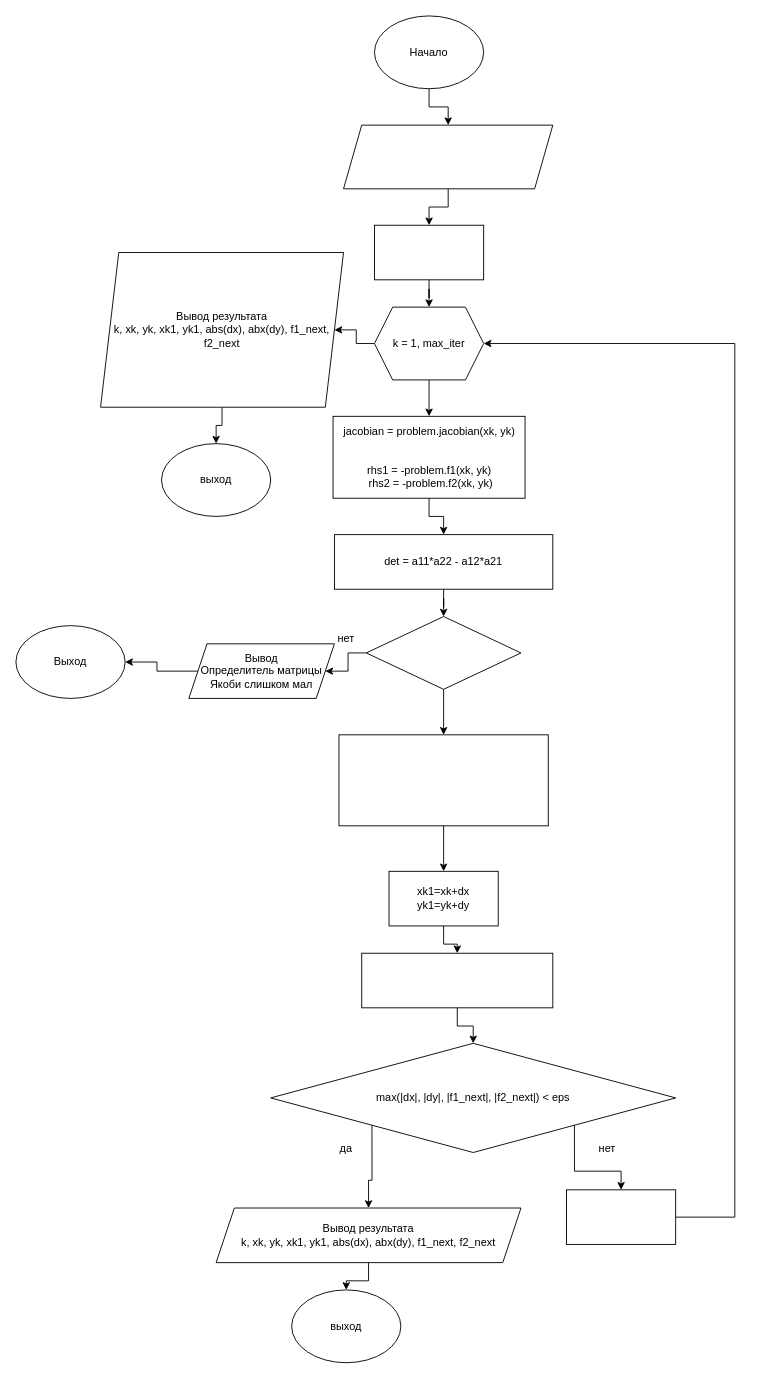
This 758x1379 diagram has some shape labels left out. The box of each missing label's shape, as (x1, y1, x2, y2) in pixels:
abs(det) < 1e-14: (365, 616, 521, 689)
dx = (b1 * a22 - a12 * b2) / det dy = (a11 * b2 - b1 * a21) / det: (338, 734, 548, 826)
problem, x0, y0, eps, max_iter: (343, 124, 553, 189)
xk = x0 yk = y0: (374, 224, 484, 280)
xk=xk1 yk=yk1: (566, 1189, 676, 1244)
Создание объекта NewtonSystemRow: (361, 952, 553, 1008)
